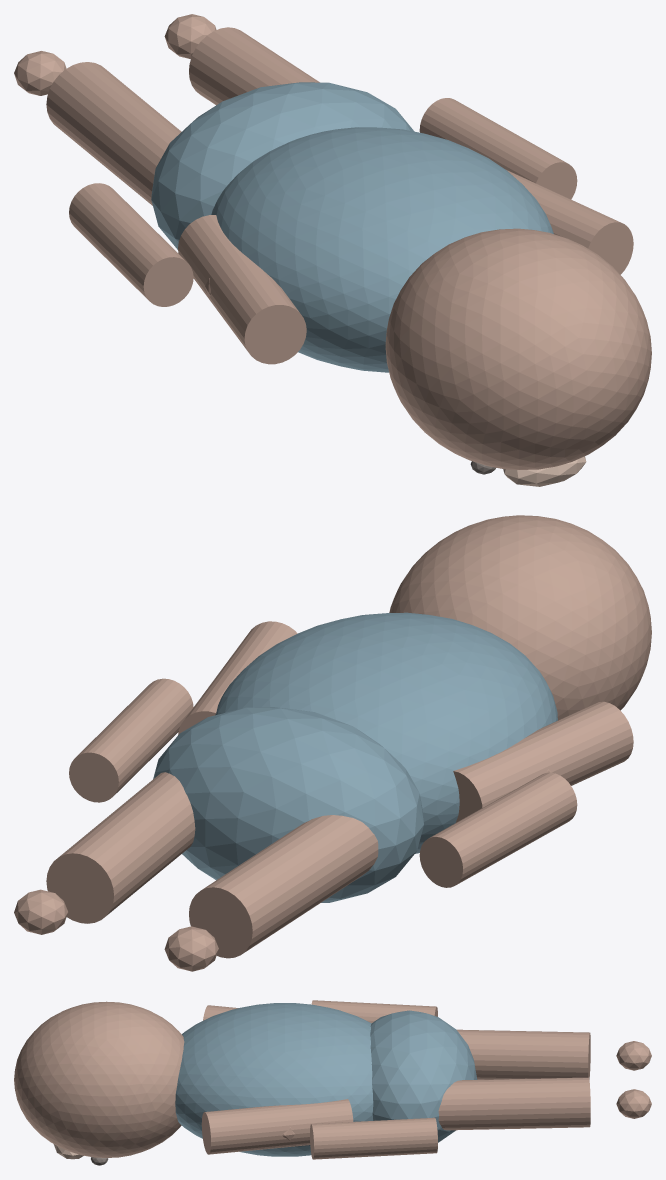
Rendered from newborn-high.glb.
The picture shows the model from 3 angles, top to bottom: view 1: azimuth 30°, elevation 25°; view 2: azimuth 150°, elevation 25°; view 3: azimuth 270°, elevation 25°; orthographic projection. The views are drawn at different scales.
Visible parts, largest first — view 1: head, torso, pelvis, left_thigh, left_upper_arm, left_forearm, right_forearm, right_thigh, right_upper_arm, left_leg, right_leg, fontanelle_region_proxy; view 2: torso, head, pelvis, left_thigh, right_thigh, left_upper_arm, left_forearm, right_forearm, right_upper_arm, left_leg, right_leg; view 3: head, torso, pelvis, right_thigh, left_thigh, right_upper_arm, right_forearm, left_forearm, left_leg, right_leg, left_upper_arm.
Part boxes in pixels (x1,y1,x2,y2): head: (385,228,651,469); torso: (211,127,553,372); pelvis: (151,82,414,249); left_thigh: (46,62,181,205); left_upper_arm: (178,215,306,364); left_forearm: (69,183,193,306); right_forearm: (419,98,577,199); right_thigh: (189,27,319,105); right_upper_arm: (506,170,633,274); left_leg: (14,51,66,95); right_leg: (164,14,216,59); fontanelle_region_proxy: (503,456,586,486); torso: (215,612,557,853); head: (389,515,651,720); pelvis: (153,707,423,902); left_thigh: (189,815,378,958); right_thigh: (46,772,195,923); left_upper_arm: (453,701,633,822); left_forearm: (419,772,577,887); right_forearm: (69,678,193,802); right_upper_arm: (178,621,297,734); left_leg: (164,926,218,971); right_leg: (14,889,67,934); head: (14,1001,184,1157); torso: (175,1003,373,1156); pelvis: (370,1010,477,1142); right_thigh: (438,1077,590,1130); left_thigh: (457,1029,590,1079); right_upper_arm: (201,1099,353,1154); right_forearm: (310,1117,437,1159); left_forearm: (311,1000,437,1023); left_leg: (616,1041,651,1070); right_leg: (616,1089,651,1118); left_upper_arm: (203,1005,238,1020).
Bounding box in the file's own units: 1.84 × 0.89 × 3.58.
